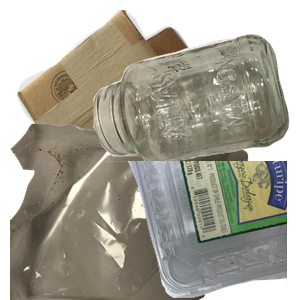cardboard: (14, 10, 222, 190)
glass: (91, 32, 300, 189)
plastic: (60, 161, 300, 300)
trash: (10, 120, 250, 300)
